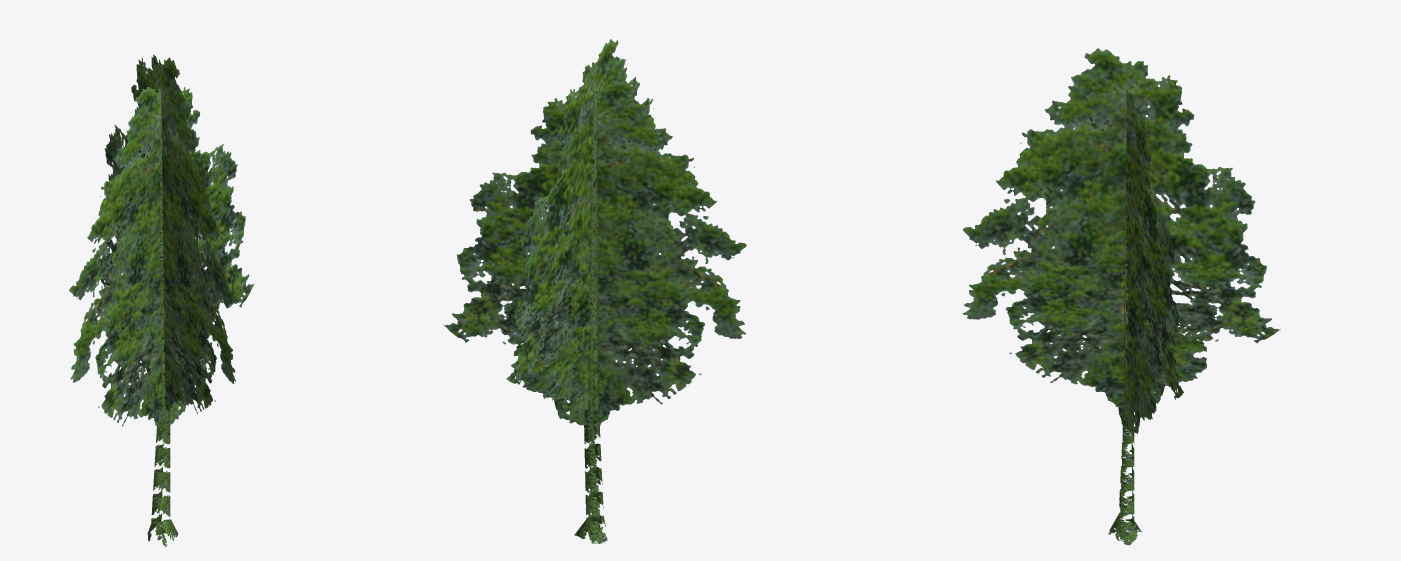
Rendered from psx_tree3.glb.
The picture shows the model from 3 angles, left to right: view 1: azimuth 30°, elevation 25°; view 2: azimuth 150°, elevation 25°; view 3: azimuth 270°, elevation 25°; orthographic projection.
Parts seen in each view (by area): view 1: _MeshInstance3D_10; view 2: _MeshInstance3D_10; view 3: _MeshInstance3D_10.
Boxes of the visible parts, x1,y1,x2,y2 form: _MeshInstance3D_10: [69, 54, 254, 546]; _MeshInstance3D_10: [443, 39, 746, 544]; _MeshInstance3D_10: [962, 48, 1280, 545].
Size of the model in its own units: 27.6 by 34.88 by 31.41.
1 material, 1 textured.
